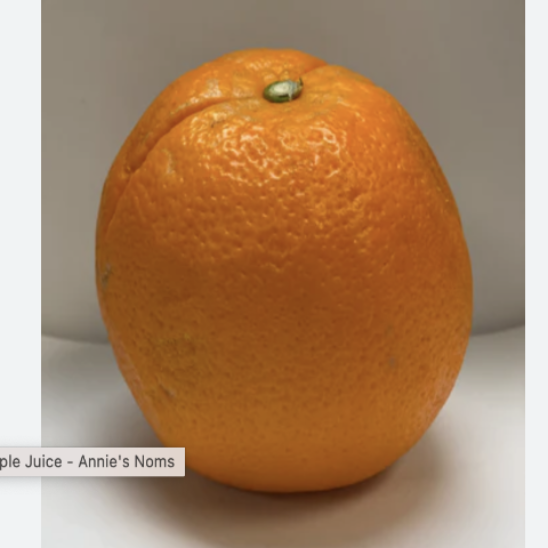orange: (64, 21, 493, 493)
